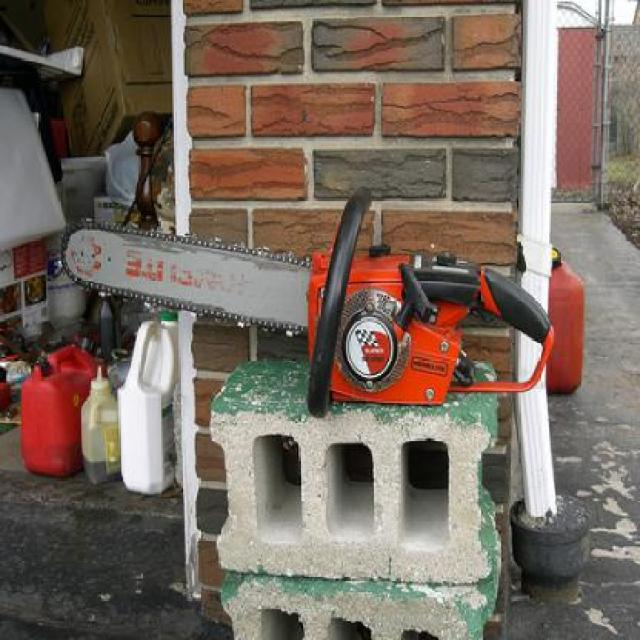Chainsaw: (65, 182, 557, 416)
